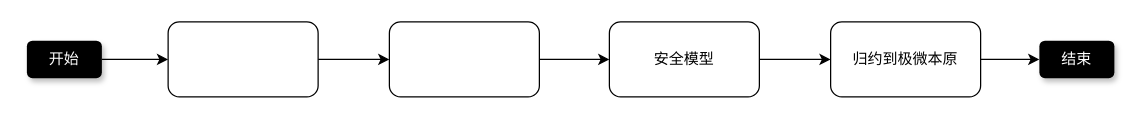
The diagram is 1143 pixels wide and 119 high, and some of its shapes have lost their labels. Each missing label, with the centre of its shape:
"安全目标" belongs at (463,59).
"形式化定义" belongs at (242,59).
